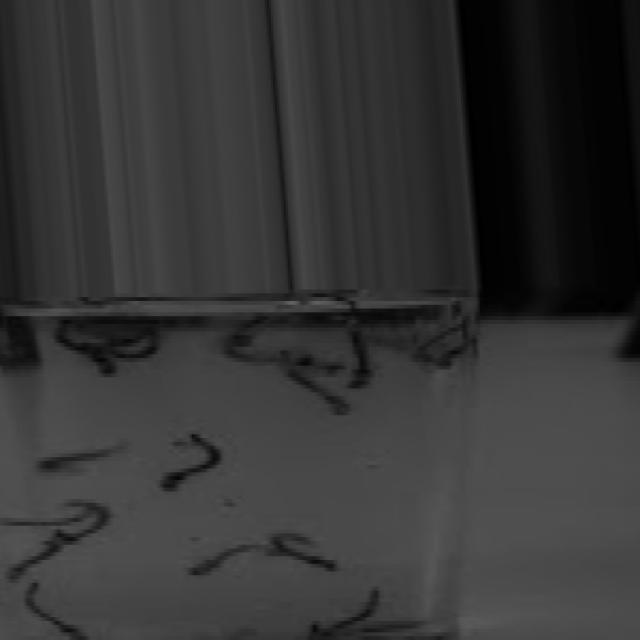larvas: (228, 325, 313, 372), (309, 583, 376, 640), (160, 435, 220, 495), (27, 584, 88, 640), (287, 372, 350, 420), (60, 325, 111, 378), (57, 495, 112, 544), (190, 538, 260, 576), (274, 532, 337, 572), (414, 315, 462, 359), (38, 446, 129, 467), (8, 544, 56, 582), (433, 333, 470, 376), (114, 328, 159, 358), (351, 325, 368, 393)
